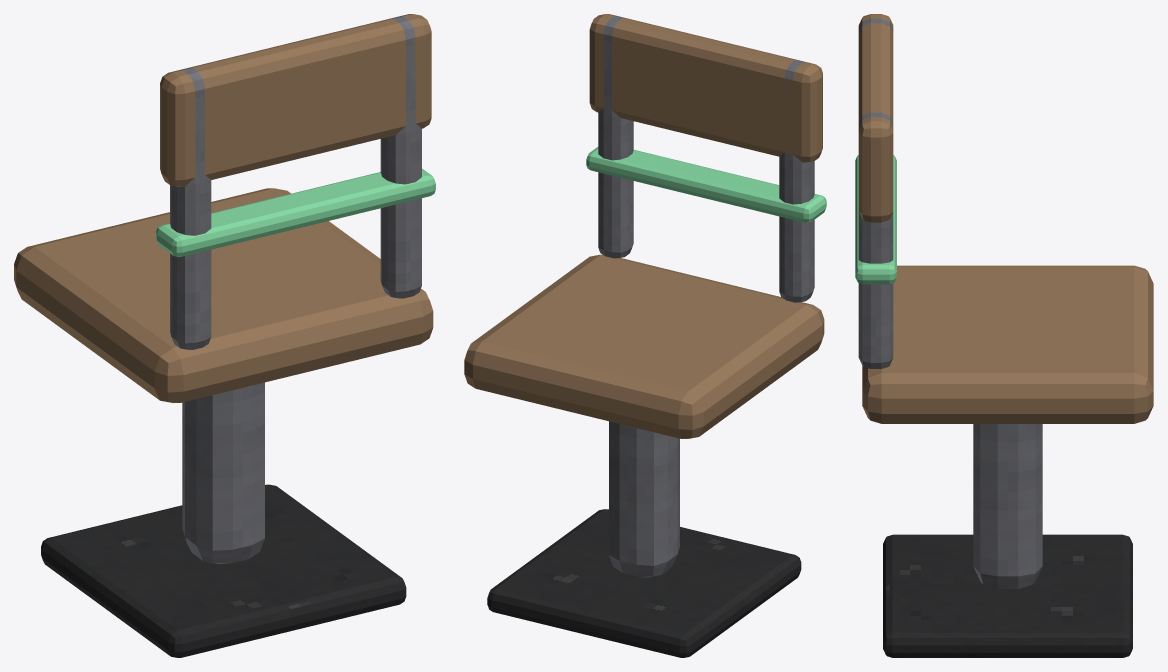
The model's file is decor_svc_dining_chair.glb.
3 renders of one model, left to right at view 1: azimuth 30°, elevation 25°; view 2: azimuth 150°, elevation 25°; view 3: azimuth 270°, elevation 25°, orthographic. The views are drawn at different scales.
Visible parts, largest first — view 1: DEC_SvcDiningChair__Seat, DEC_SvcDiningChair__Foot_Plate, DEC_SvcDiningChair__Back_Rest, DEC_SvcDiningChair__Stem, DEC_SvcDiningChair__Back_Accent, DEC_SvcDiningChair__Back_Post_L, DEC_SvcDiningChair__Back_Post_R; view 2: DEC_SvcDiningChair__Seat, DEC_SvcDiningChair__Foot_Plate, DEC_SvcDiningChair__Back_Rest, DEC_SvcDiningChair__Stem, DEC_SvcDiningChair__Back_Accent, DEC_SvcDiningChair__Back_Post_R, DEC_SvcDiningChair__Back_Post_L; view 3: DEC_SvcDiningChair__Seat, DEC_SvcDiningChair__Foot_Plate, DEC_SvcDiningChair__Stem, DEC_SvcDiningChair__Back_Rest, DEC_SvcDiningChair__Back_Post_R, DEC_SvcDiningChair__Back_Accent.
Boxes of the visible parts, <box> form: DEC_SvcDiningChair__Seat: <box>14,188,433,403</box>; DEC_SvcDiningChair__Foot_Plate: <box>41,484,406,657</box>; DEC_SvcDiningChair__Back_Rest: <box>160,14,431,186</box>; DEC_SvcDiningChair__Stem: <box>182,382,264,563</box>; DEC_SvcDiningChair__Back_Accent: <box>156,168,435,256</box>; DEC_SvcDiningChair__Back_Post_L: <box>170,67,211,349</box>; DEC_SvcDiningChair__Back_Post_R: <box>380,16,421,298</box>; DEC_SvcDiningChair__Seat: <box>464,254,824,438</box>; DEC_SvcDiningChair__Foot_Plate: <box>487,509,801,657</box>; DEC_SvcDiningChair__Back_Rest: <box>589,14,822,162</box>; DEC_SvcDiningChair__Stem: <box>609,421,679,577</box>; DEC_SvcDiningChair__Back_Accent: <box>586,147,826,222</box>; DEC_SvcDiningChair__Back_Post_R: <box>598,16,633,258</box>; DEC_SvcDiningChair__Back_Post_L: <box>779,60,814,302</box>; DEC_SvcDiningChair__Seat: <box>862,265,1153,423</box>; DEC_SvcDiningChair__Foot_Plate: <box>883,534,1132,657</box>; DEC_SvcDiningChair__Stem: <box>973,424,1042,588</box>; DEC_SvcDiningChair__Back_Rest: <box>858,14,893,222</box>; DEC_SvcDiningChair__Back_Post_R: <box>858,112,893,368</box>; DEC_SvcDiningChair__Back_Accent: <box>855,155,896,284</box>.
Size of the model in its own units: 0.42 by 0.86 by 0.43.
Materials: 4 (2 with a texture image).
